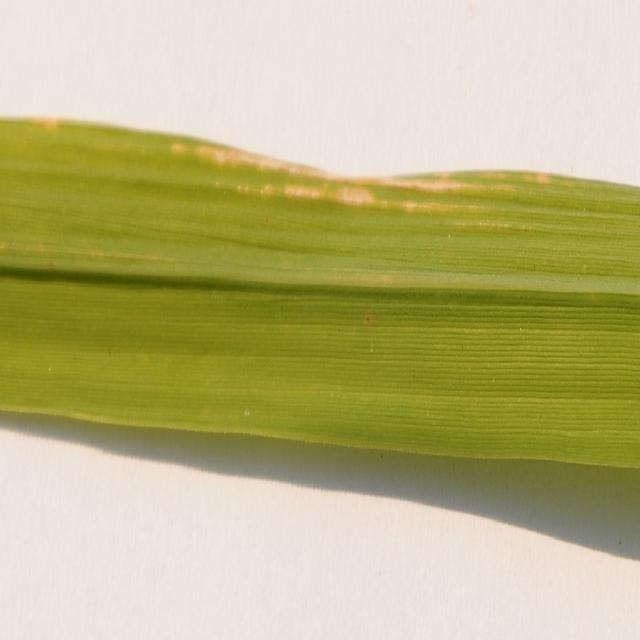leaf blight: (169, 133, 558, 216), (36, 104, 61, 153)
